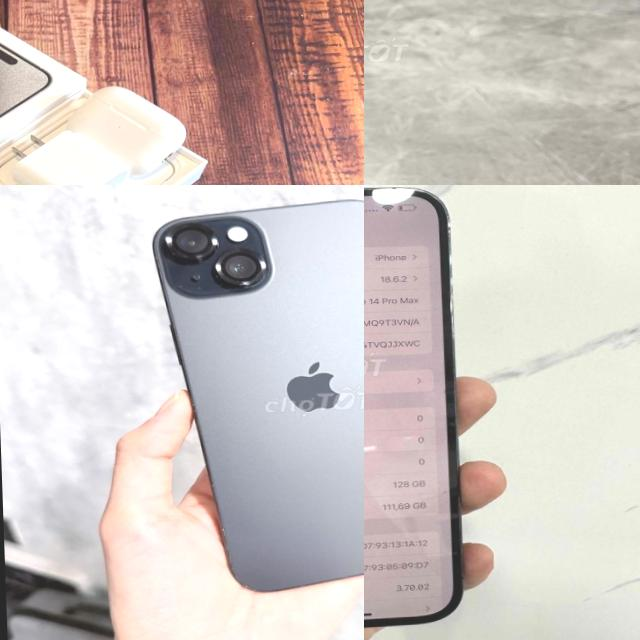gen_12_13: (364, 0, 456, 185)
gen_14: (364, 185, 473, 640)
gen_15: (138, 185, 364, 602)
scratch: (212, 522, 260, 598)
